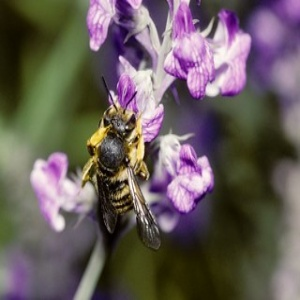bee: (90, 77, 158, 249)
